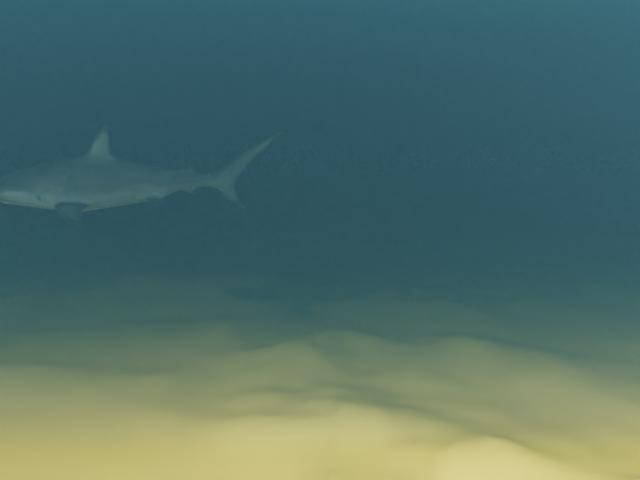Carribean Shark.001: (0, 125, 283, 225)
